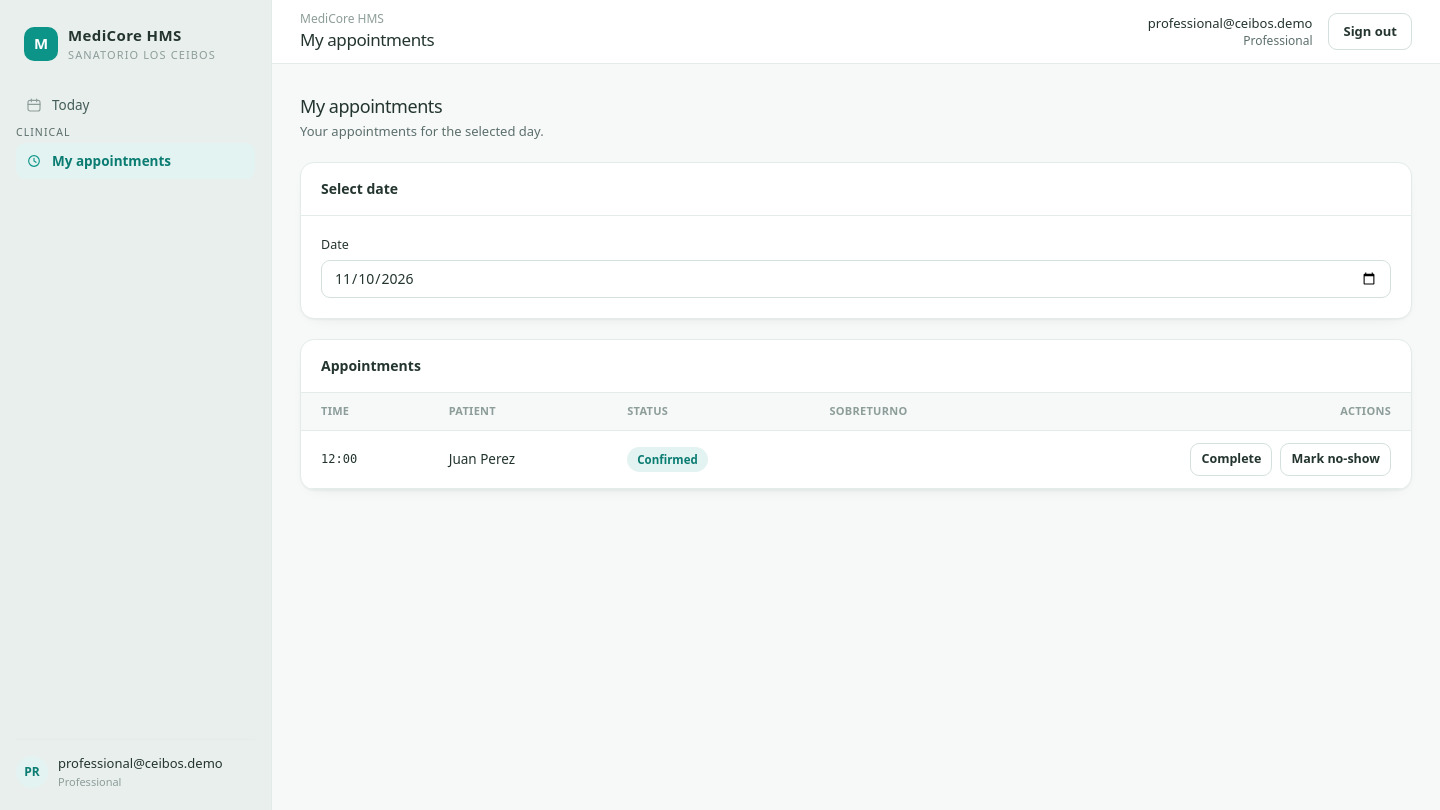
Test: MyAppointmentsPage › marks an appointment as no-show and refreshes the list
The width and height of the screenshot is (1440, 810).
Expected: the text "Juan Perez" is shown, [429, 430, 607, 488]
Click the button with aria-label "mark appointment appt-1 as no-show" at [1336, 459], box [1280, 443, 1391, 476]
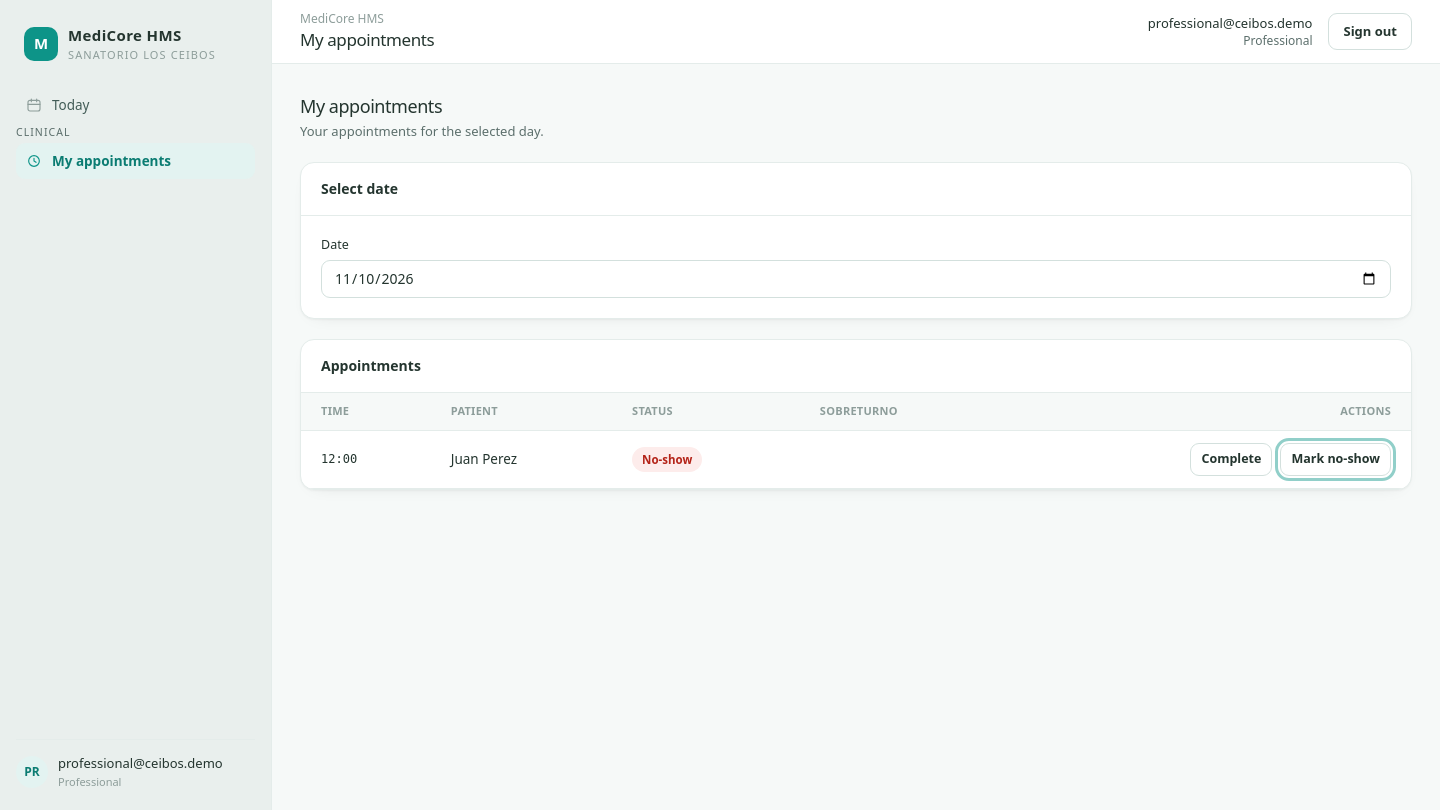
Now the text "No-show" is shown, box [632, 446, 702, 472]
